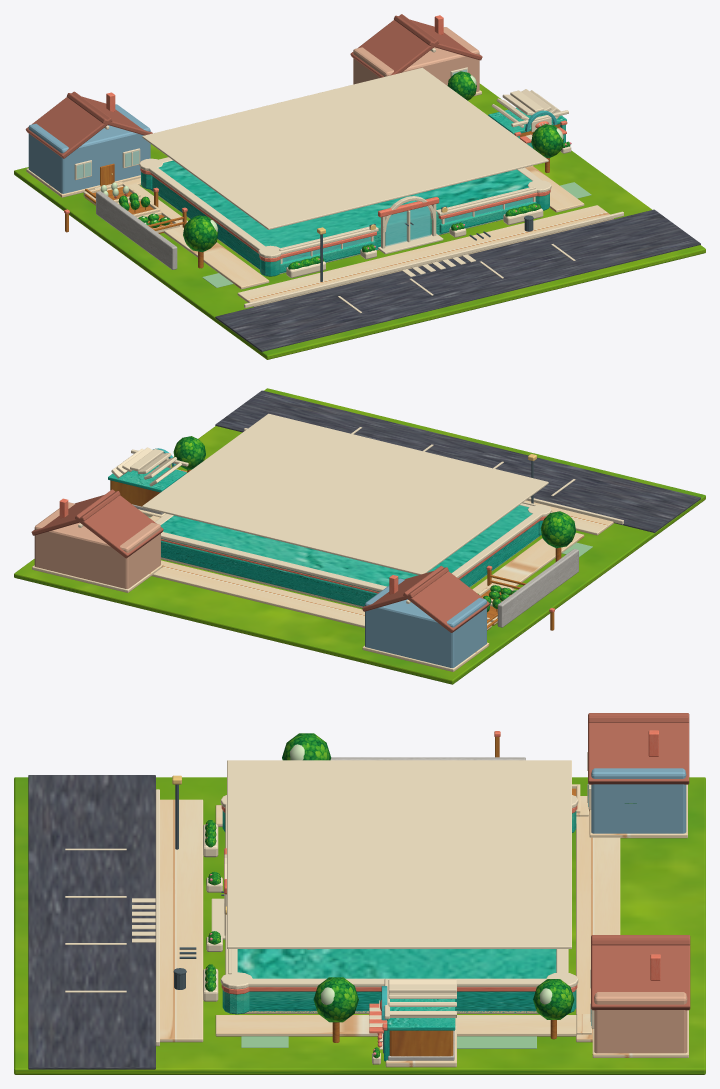
The model's file is supermarket_city.fbx.
3 renders of one model, top to bottom at view 1: azimuth 30°, elevation 25°; view 2: azimuth 150°, elevation 25°; view 3: azimuth 270°, elevation 25°, orthographic. The views are drawn at different scales.
Parts seen in each view (by area): view 1: Roof, ENV_Road, ENV_Ground, SM_Supermarket_Proxy_Near, ENV_Sidewalk_Front, BG_House_01_Walls, BG_House_02_Walls, BG_House_01_RoofLeft, BG_House_02_RoofLeft, BG_GardenWall_Left, ENV_Sidewalk_Left, ENV_Curb_Front (+15 smaller); view 2: Roof, ENV_Ground, ENV_Road, SM_Supermarket_Proxy_Near, BG_House_01_Walls, BG_House_02_Walls, ENV_Sidewalk_Back, SM_Building_Walls_Back, BG_House_02_RoofLeft, BG_House_01_RoofLeft, BG_GardenWall_Left, ENV_Sidewalk_Left (+14 smaller); view 3: Roof, ENV_Road, ENV_Ground, ENV_Sidewalk_Front, SM_Supermarket_Proxy_Near, ENV_Sidewalk_Back, BG_House_01_Walls, ENV_Sidewalk_Right, BG_House_02_RoofRight, BG_House_01_RoofRight, BG_House_02_Walls, SM_Building_Walls_Right (+18 smaller).
Part boxes in pixels (x1=…): Roof: x1=142, y1=67, x2=548, y2=229; ENV_Road: x1=215, y1=209, x2=700, y2=351; ENV_Ground: x1=14, y1=83, x2=705, y2=359; SM_Supermarket_Proxy_Near: x1=150, y1=160, x2=532, y2=273; ENV_Sidewalk_Front: x1=237, y1=205, x2=613, y2=306; BG_House_01_Walls: x1=28, y1=104, x2=150, y2=193; BG_House_02_Walls: x1=353, y1=27, x2=479, y2=92; BG_House_01_RoofLeft: x1=25, y1=91, x2=112, y2=158; BG_House_02_RoofLeft: x1=350, y1=14, x2=438, y2=77; BG_GardenWall_Left: x1=96, y1=191, x2=177, y2=269; ENV_Sidewalk_Left: x1=128, y1=183, x2=269, y2=289; ENV_Curb_Front: x1=244, y1=211, x2=623, y2=308; Roof: x1=142, y1=413, x2=548, y2=574; ENV_Ground: x1=14, y1=388, x2=705, y2=684; ENV_Road: x1=215, y1=390, x2=700, y2=532; SM_Supermarket_Proxy_Near: x1=160, y1=505, x2=539, y2=608; BG_House_01_Walls: x1=365, y1=578, x2=486, y2=667; BG_House_02_Walls: x1=34, y1=502, x2=160, y2=588; ENV_Sidewalk_Back: x1=152, y1=560, x2=364, y2=627; SM_Building_Walls_Back: x1=161, y1=540, x2=377, y2=606; BG_House_02_RoofLeft: x1=75, y1=489, x2=163, y2=558; BG_House_01_RoofLeft: x1=403, y1=566, x2=489, y2=632; BG_GardenWall_Left: x1=497, y1=549, x2=578, y2=627; ENV_Sidewalk_Left: x1=472, y1=533, x2=584, y2=593; Roof: x1=227, y1=760, x2=571, y2=948; ENV_Road: x1=28, y1=775, x2=155, y2=1069; ENV_Ground: x1=14, y1=777, x2=705, y2=1074; ENV_Sidewalk_Front: x1=160, y1=799, x2=203, y2=1042; SM_Supermarket_Proxy_Near: x1=237, y1=949, x2=556, y2=1012; ENV_Sidewalk_Back: x1=576, y1=810, x2=620, y2=1042; BG_House_01_Walls: x1=591, y1=768, x2=686, y2=833; ENV_Sidewalk_Right: x1=215, y1=1015, x2=576, y2=1036; BG_House_02_RoofRight: x1=591, y1=935, x2=690, y2=1010; BG_House_01_RoofRight: x1=588, y1=713, x2=689, y2=784; BG_House_02_Walls: x1=594, y1=992, x2=687, y2=1053; SM_Building_Walls_Right: x1=249, y1=991, x2=535, y2=1009.
Size of what is drawn, in the model's own units: 36.99 by 5.75 by 35.
